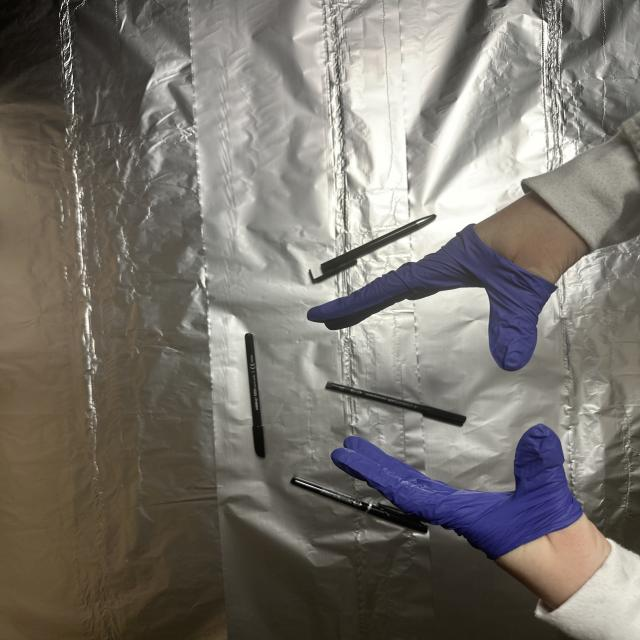glove_partial: (329, 424, 618, 612), (304, 190, 592, 370)
